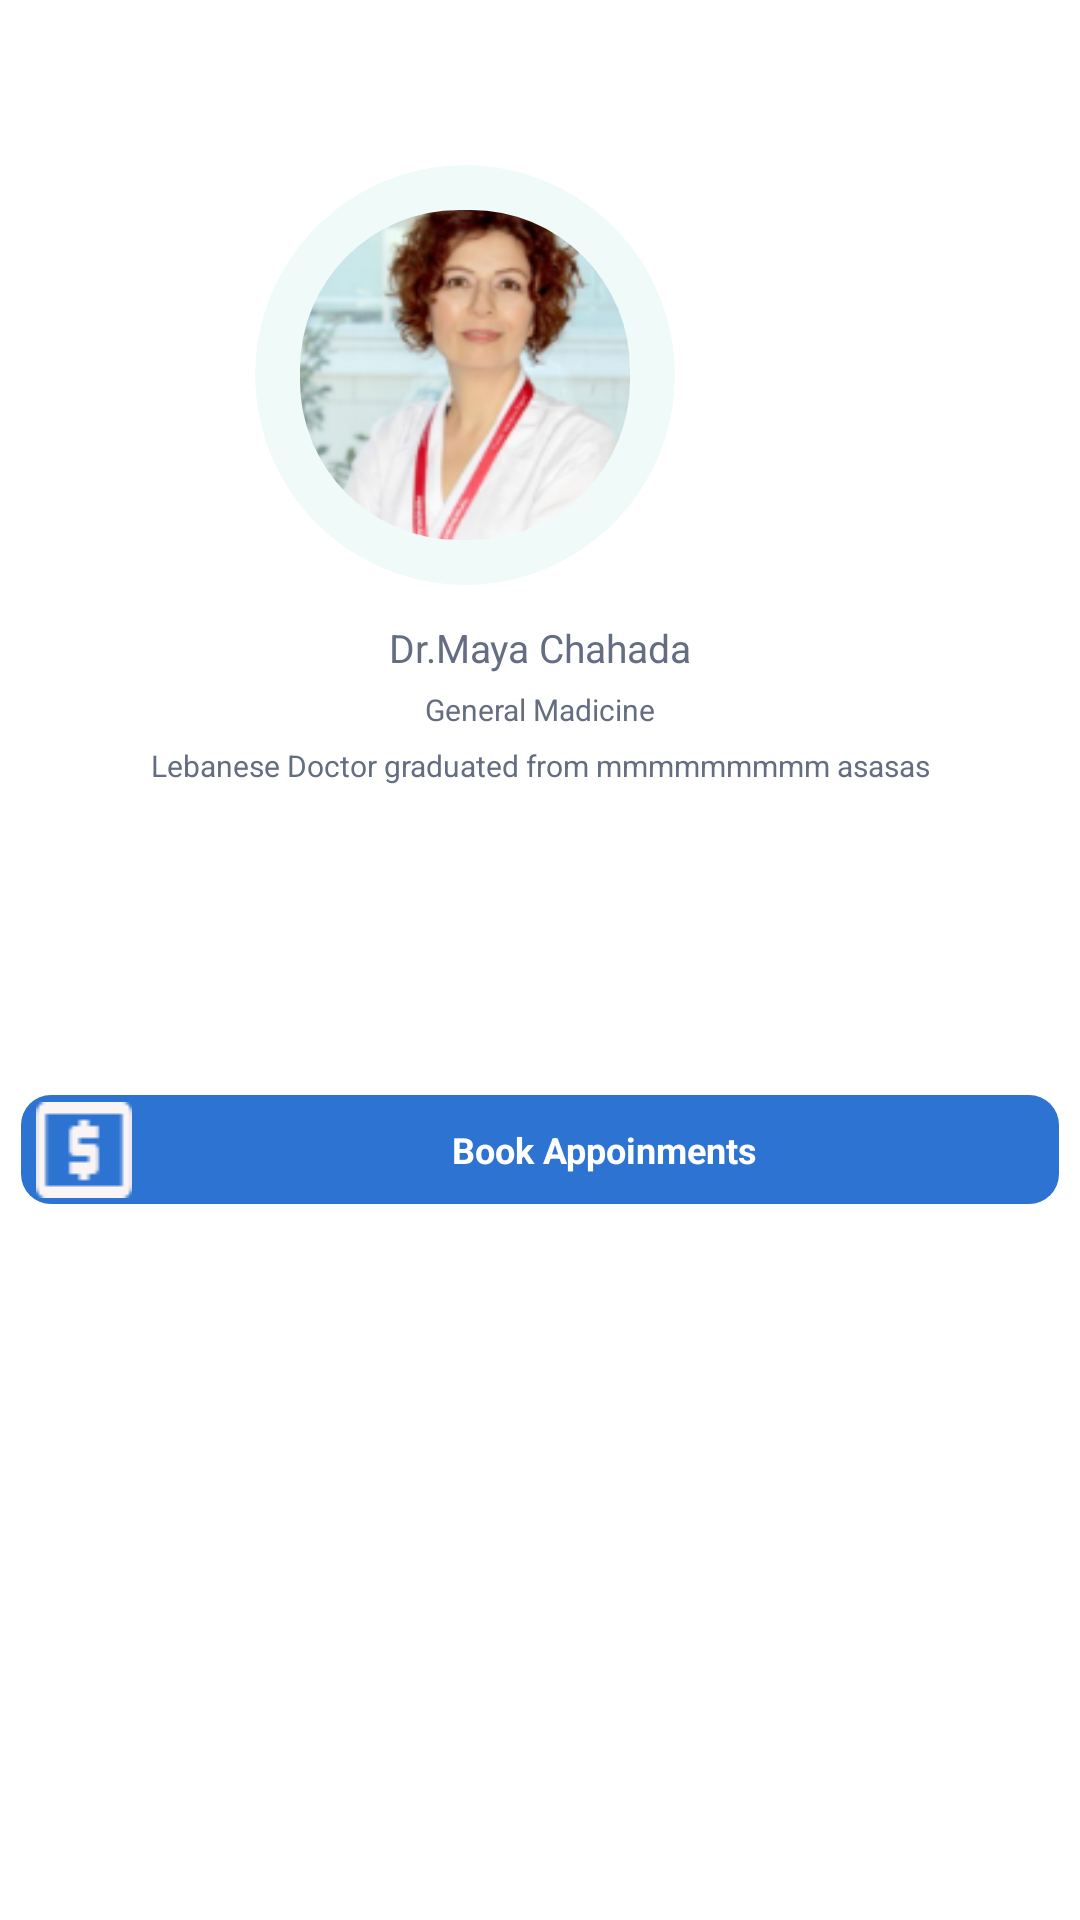

Point at icon controls on the screen. Image size 1080×1920, points as point (x, y).
local atm: point (84, 1150)
